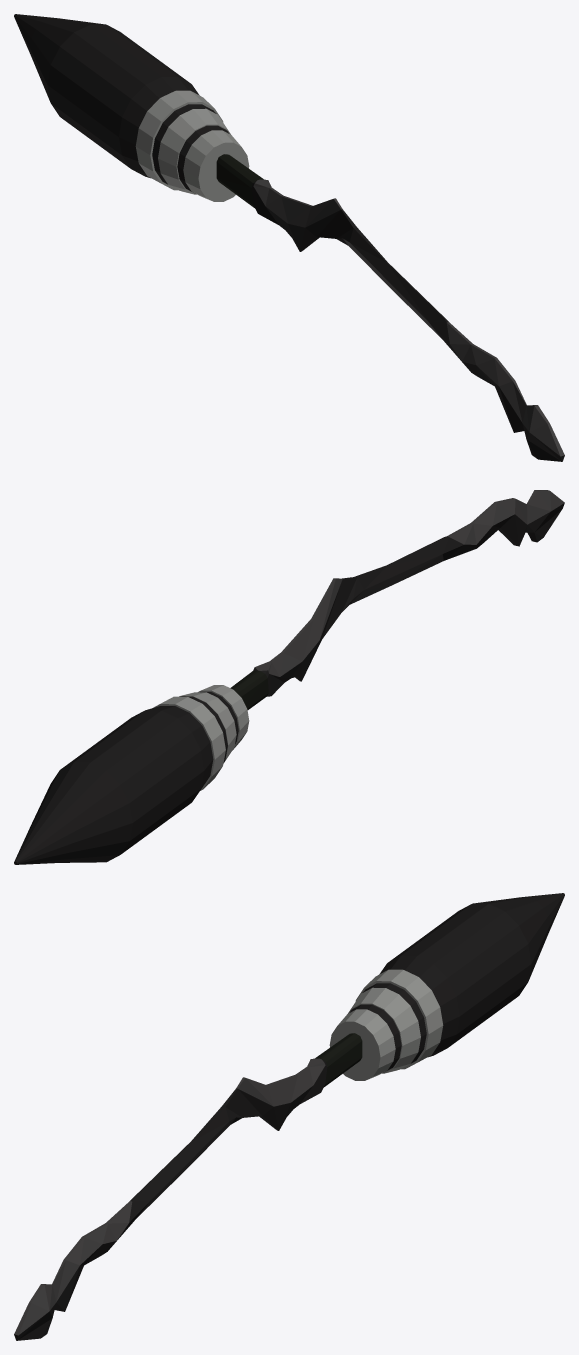
File: shootingstar.obj
3 renders of one model, top to bottom at view 1: azimuth 30°, elevation 25°; view 2: azimuth 150°, elevation 25°; view 3: azimuth 330°, elevation 25°, orthographic.
Visible parts, largest first — view 1: Body; view 2: Body; view 3: Body.
Part boxes in pixels (x1,y1,x2,y2): Body: (14,14,564,461); Body: (14,490,564,864); Body: (14,893,564,1340).
Size of the model in its own units: 0.4293 by 0.5255 by 4.75.
